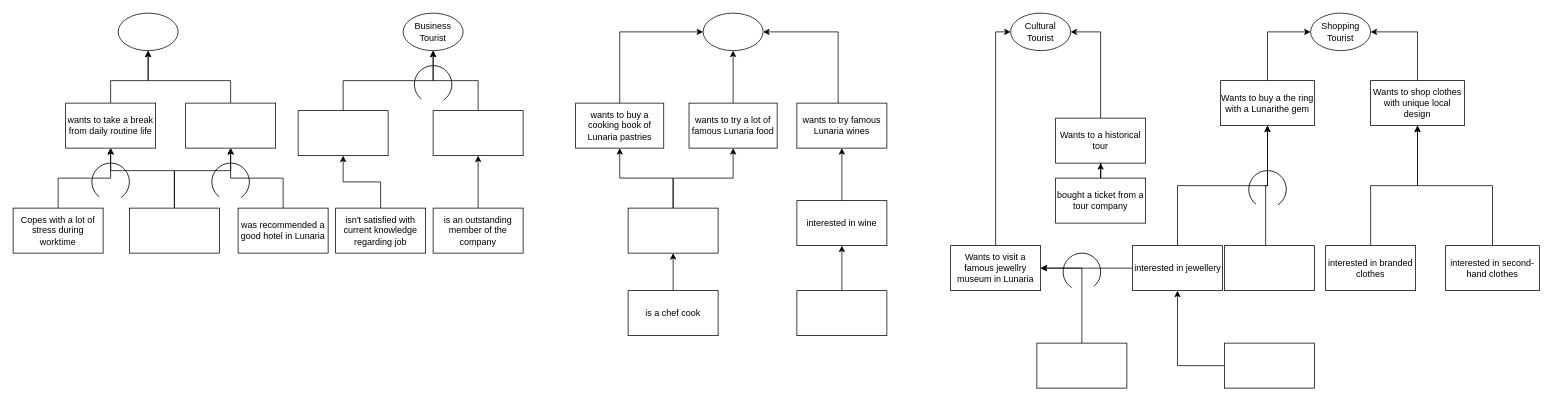
Some shapes in this 1553 by 401 pixel diagram are drawn without their labels. The centre of each missing label's shape, as x and y in pixels:
Company can to offer a business trip to Lunaria on a particular conference: the point at 477,133
Didn't have vacation for a long time: the point at 174,230
Gourmet Tourist: the point at 732,31
has necessary money: the point at 1269,268
interested in cooking: the point at 672,230
Is a jewellery connoisseur: the point at 1269,365
is a wine expert: the point at 841,313
is in invited guest list of a museum: the point at 1081,365
Leisure Tourist: the point at 147,31
Wants to have fun: the point at 230,125
Wants to join a meeting related to his job: the point at 342,133
